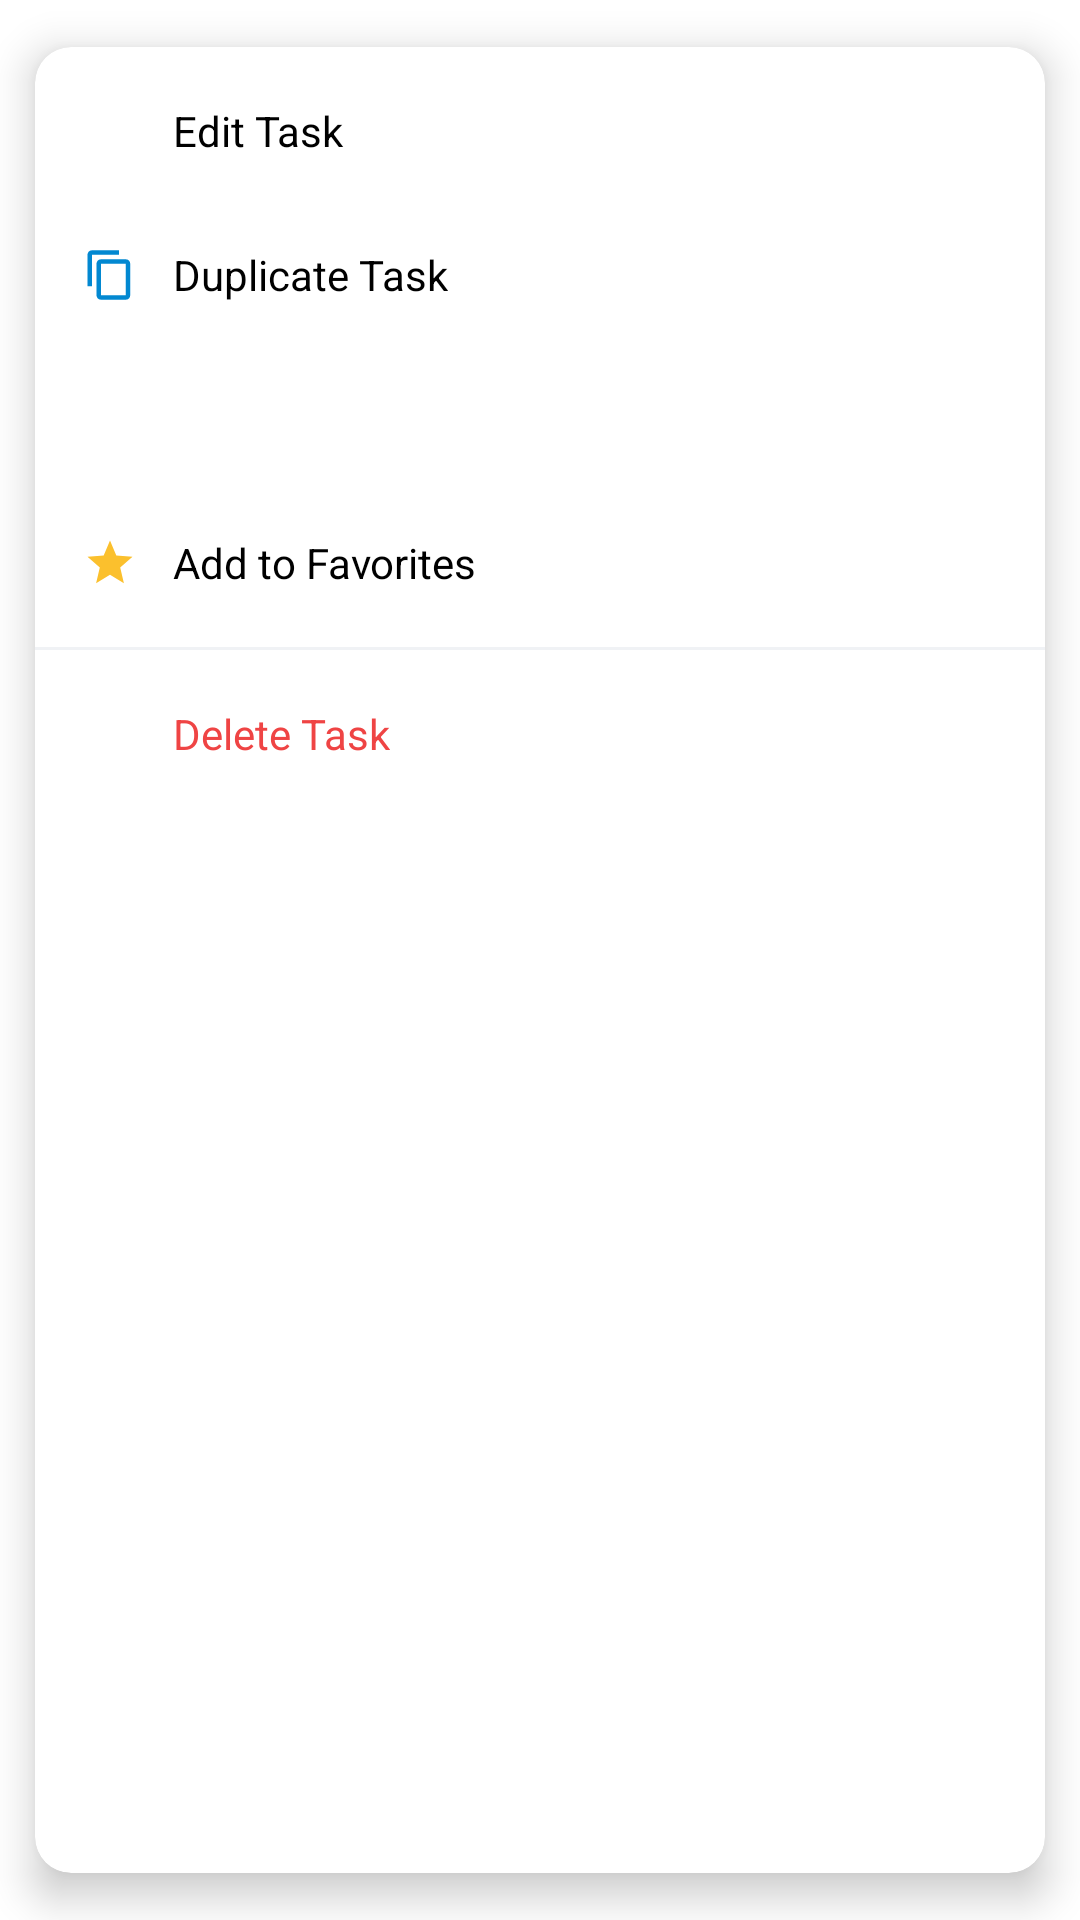

Point at icon controls on the screen. Image size 1080x1920, points as point (x, y).
star: point (110, 562)
